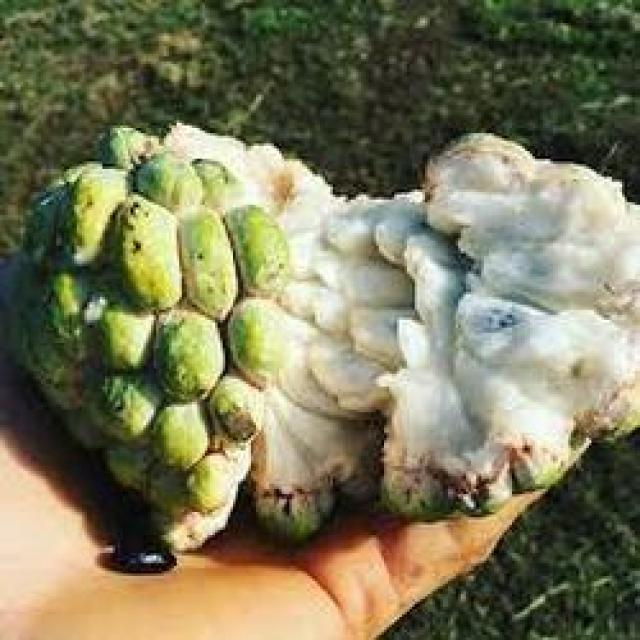apple: (18, 115, 640, 548)
